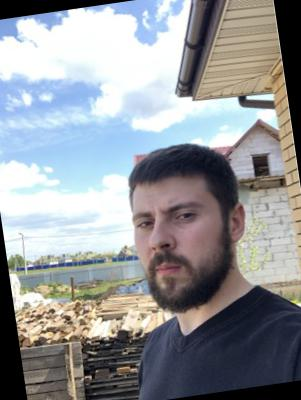without_mask: (129, 188, 228, 319)
